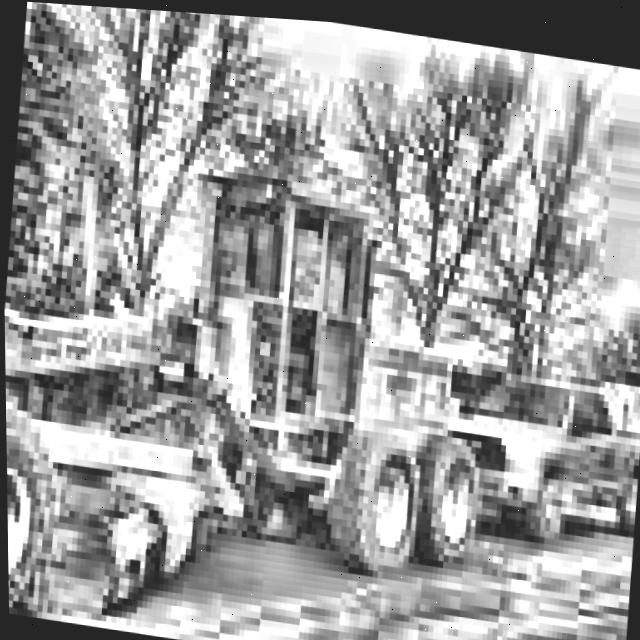buldozerpayloadergrader: (1, 117, 508, 640)
light_vehicle: (430, 303, 640, 556)
